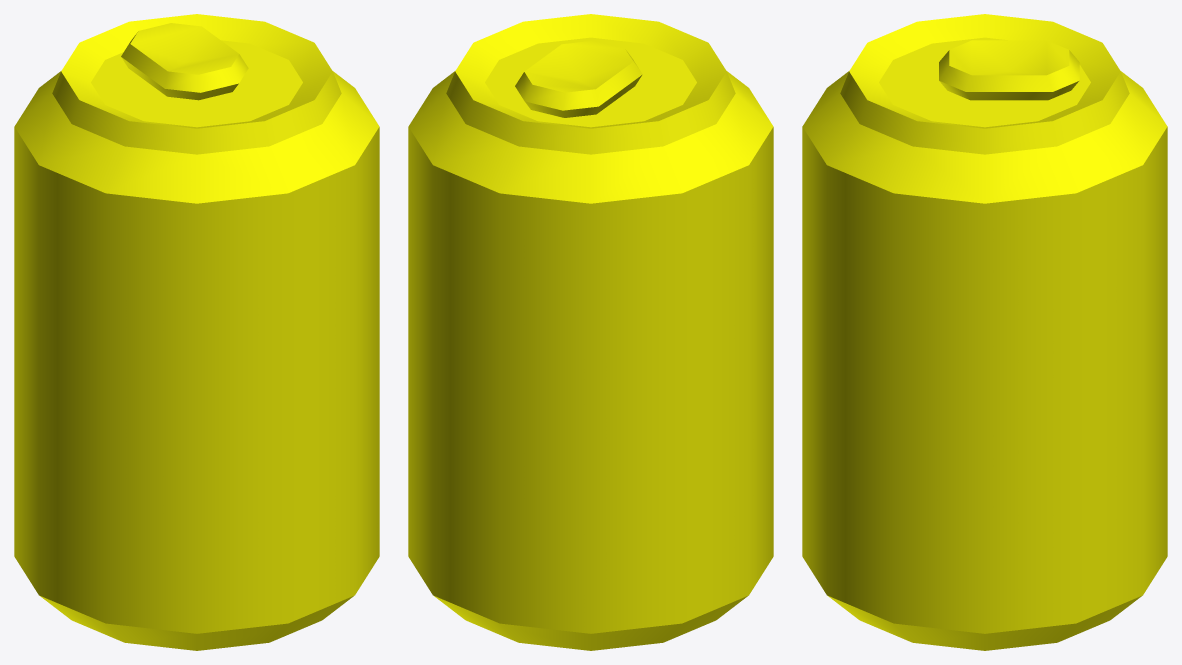
File: kaykit-can-a.glb
3 views of the same model, side by side, from view 1: azimuth 30°, elevation 25°; view 2: azimuth 150°, elevation 25°; view 3: azimuth 270°, elevation 25° (orthographic).
Visible parts, largest first — view 1: Can_A; view 2: Can_A; view 3: Can_A.
Boxes of the visible parts, x1=… form: Can_A: x1=14, y1=14, x2=379, y2=650; Can_A: x1=408, y1=14, x2=773, y2=650; Can_A: x1=802, y1=14, x2=1167, y2=650.
Size of the model in its own units: 0.3 by 0.4823 by 0.3.
